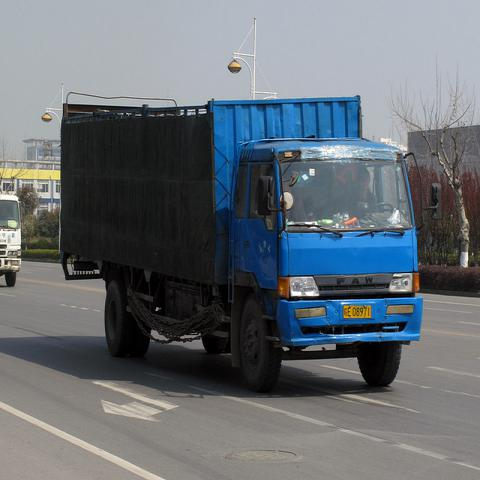truck: (59, 94, 424, 396), (0, 193, 23, 287)
